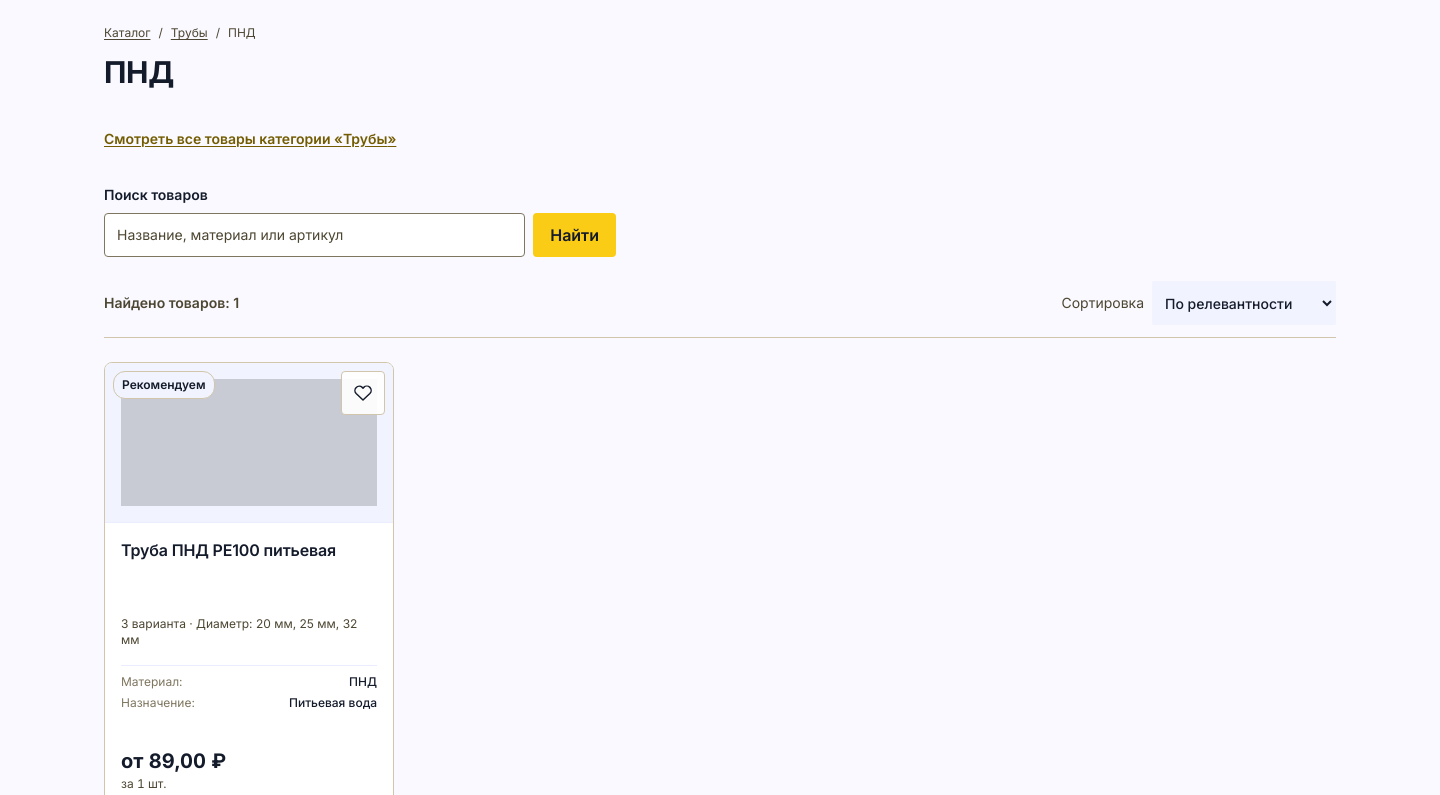
Test case: CategoryPage integration › keeps contextual search and exposes recognized specifications as filter chips
Expected: the text "Найдено товаров: 1" is shown, [104,293,239,313]
Type "труба ПНД 25 мм в наличии" into the search field labelled "Поиск товаров".
click(315, 235); type("труба ПНД 25 мм в наличии")  # box [104,213,525,257]
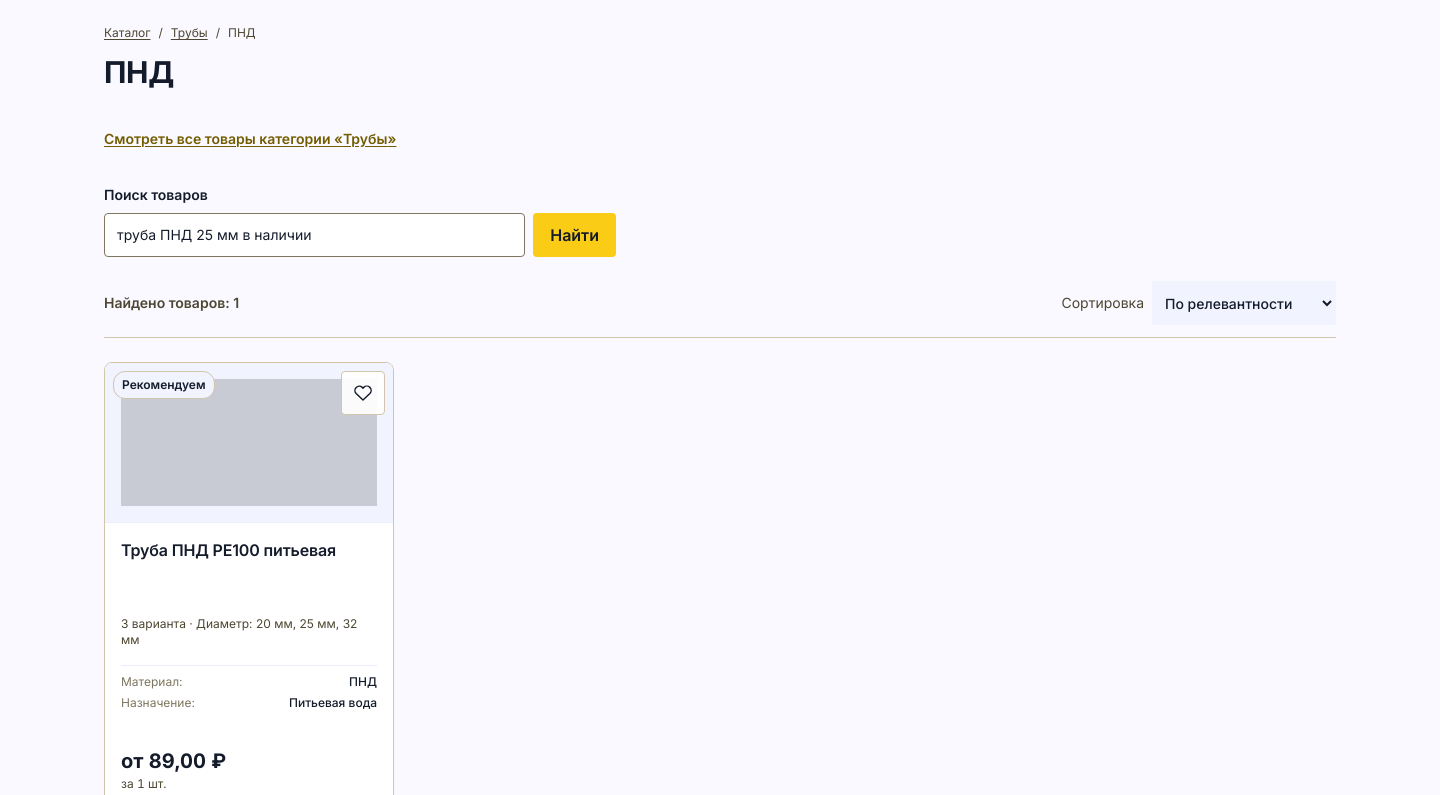
Click the button "Найти".
click(575, 235)  # box [533,213,616,257]
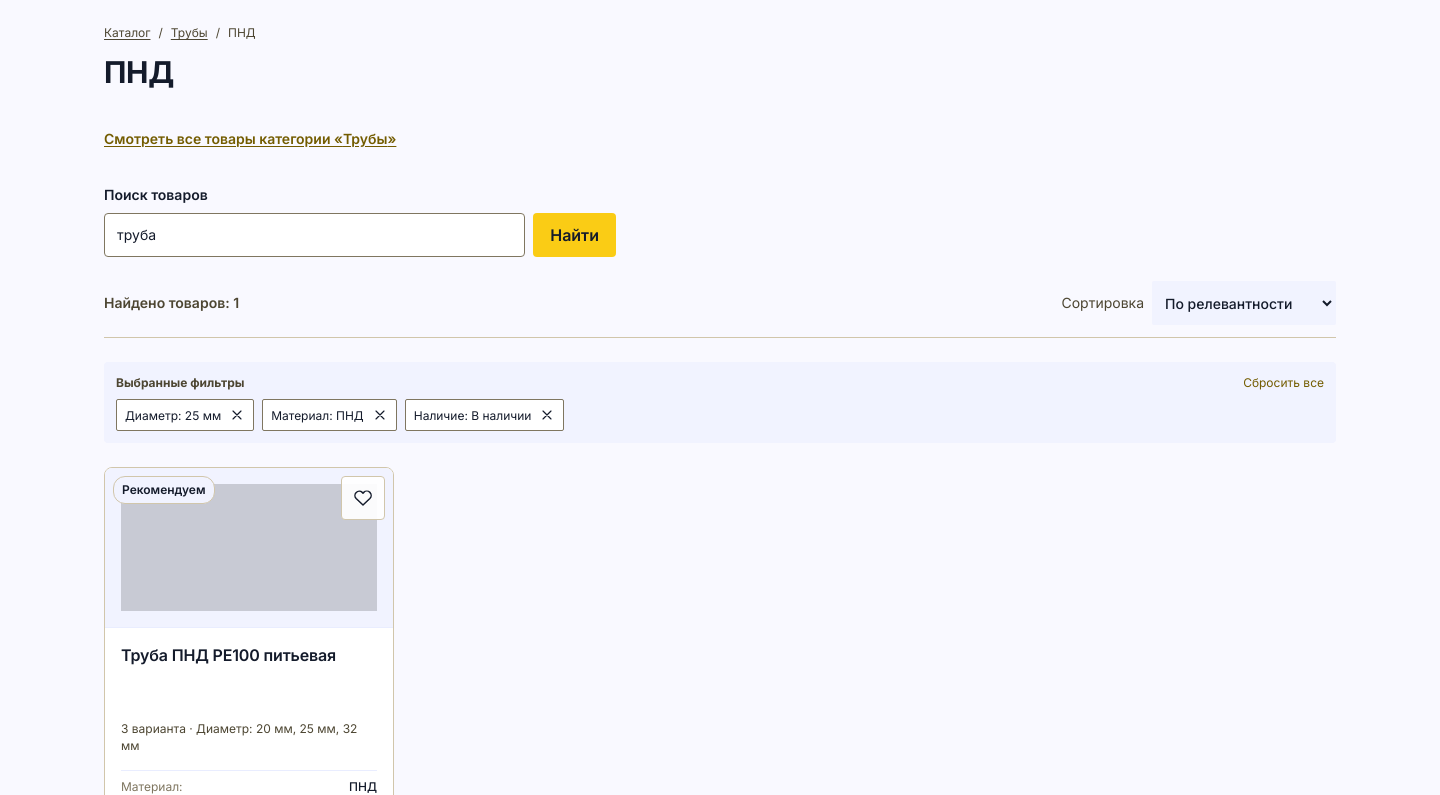
Expected: the search field labelled "Поиск товаров" holds "труба", [104,213,525,257]
Expected: the button with aria-label "Убрать фильтр: Материал: ПНД" is shown, [262,399,397,431]
Expected: the button with aria-label "Убрать фильтр: Диаметр: 25 мм" is shown, [116,399,254,431]
